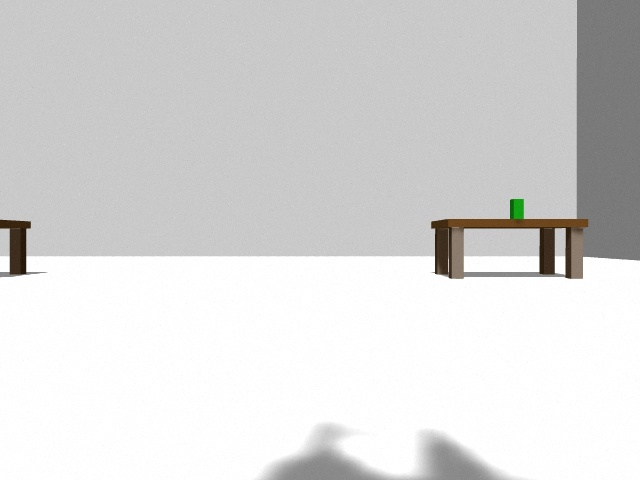green_cube: (510, 199, 524, 219)
